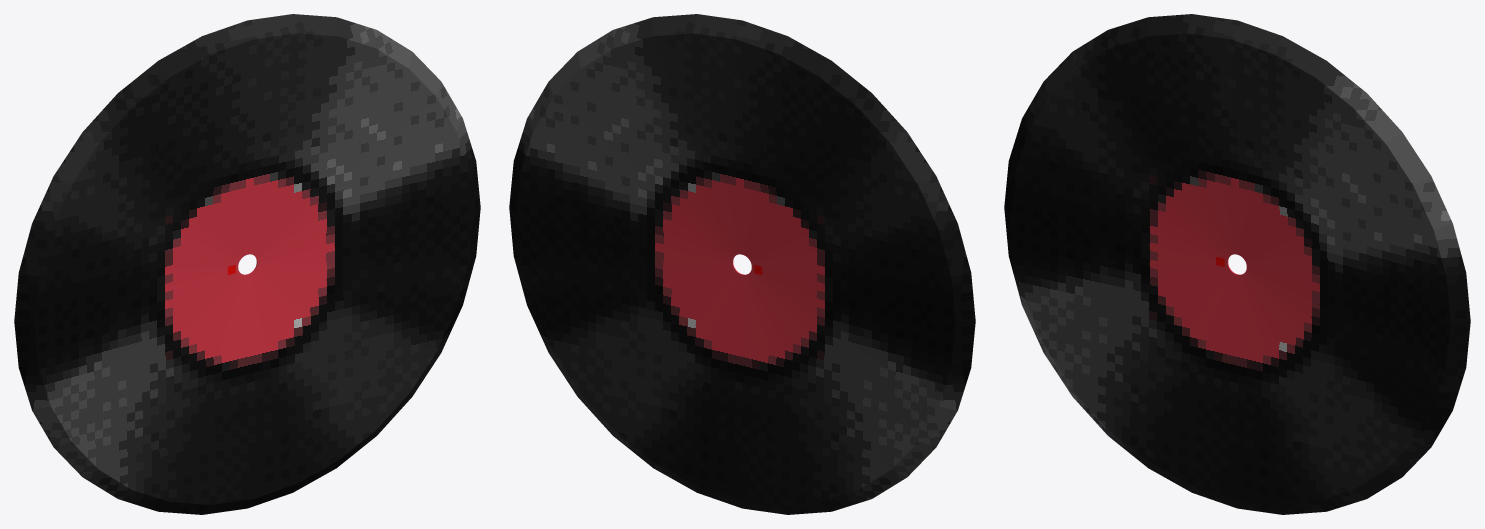
Rendered from Record_Red.glb.
3 views of the same model, side by side, from view 1: azimuth 30°, elevation 25°; view 2: azimuth 150°, elevation 25°; view 3: azimuth 330°, elevation 25° (orthographic).
Parts seen in each view (by area): view 1: Cylinder.005; view 2: Cylinder.005; view 3: Cylinder.005.
Part boxes in pixels (bbox=[...]): Cylinder.005: bbox=[14, 14, 480, 514]; Cylinder.005: bbox=[509, 14, 975, 514]; Cylinder.005: bbox=[1004, 14, 1470, 514].
Bounding box in the file's own units: 2.12 × 2.12 × 0.1009.
Materials: 1 (1 with a texture image).
